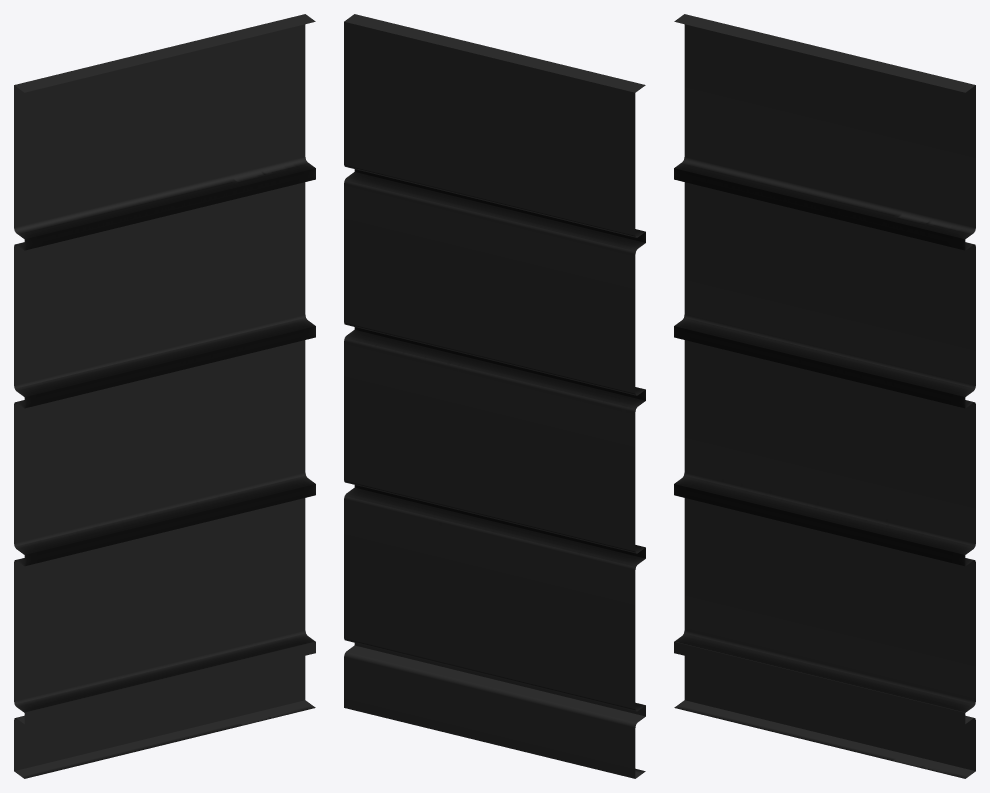
Rendered from VAL_2M_SW.fbx.
3 views of the same model, side by side, from view 1: azimuth 30°, elevation 25°; view 2: azimuth 150°, elevation 25°; view 3: azimuth 330°, elevation 25° (orthographic).
Parts seen in each view (by area): view 1: VAL_2M_SW; view 2: VAL_2M_SW; view 3: VAL_2M_SW.
Part boxes in pixels (x1=…): VAL_2M_SW: x1=14, y1=14, x2=315, y2=778; VAL_2M_SW: x1=344, y1=14, x2=645, y2=778; VAL_2M_SW: x1=674, y1=14, x2=975, y2=778.
Bounding box in the file's own units: 2 × 4.5 × 0.125.
